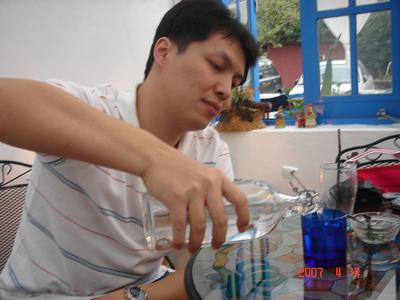person: (2, 1, 257, 300)
